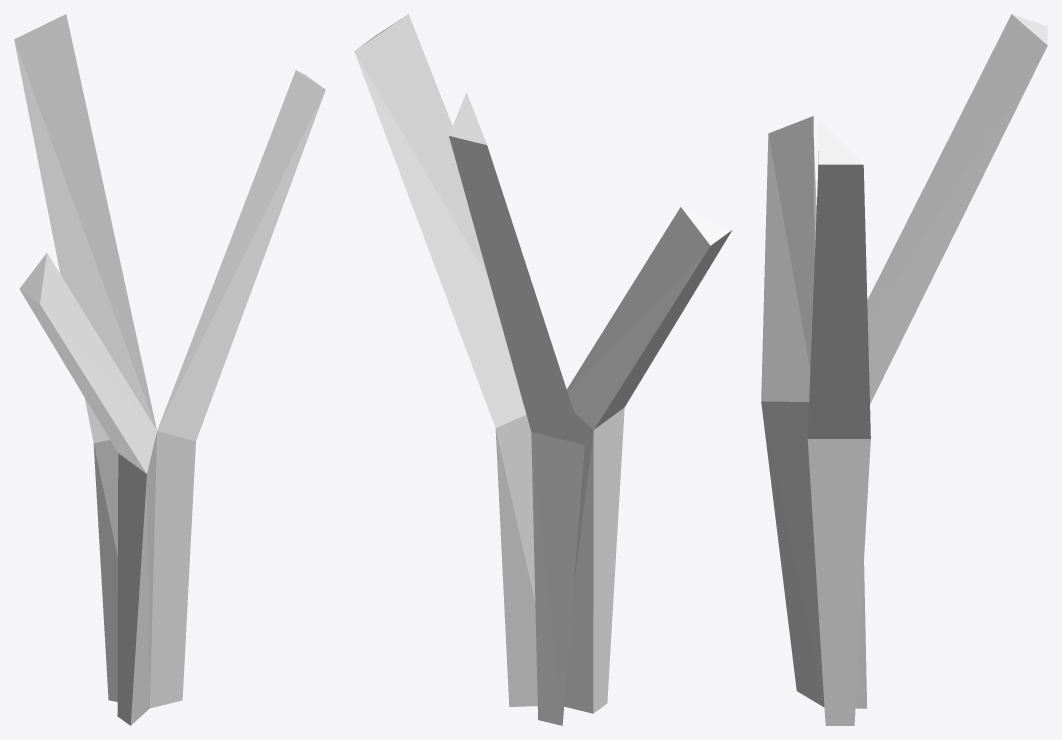
Rendered from Crop_Garlic_STAGE_2_01.glb.
3 renders of one model, left to right at view 1: azimuth 30°, elevation 25°; view 2: azimuth 150°, elevation 25°; view 3: azimuth 270°, elevation 25°, orthographic. The views are drawn at different scales.
Visible parts, largest first — view 1: Crop_Garlic_STAGE_2_01; view 2: Crop_Garlic_STAGE_2_01; view 3: Crop_Garlic_STAGE_2_01.
Part boxes in pixels (<box>): Crop_Garlic_STAGE_2_01: <box>14,14,325,725</box>; Crop_Garlic_STAGE_2_01: <box>354,14,732,725</box>; Crop_Garlic_STAGE_2_01: <box>761,14,1047,725</box>.
Size of the model in its own units: 0.0931 by 0.1822 by 0.0681.
1 material, 1 textured.
